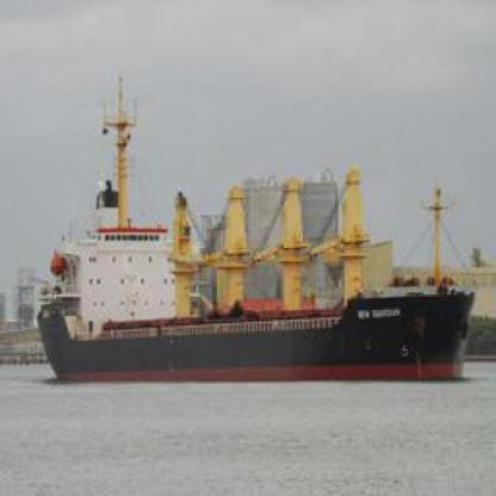Ship: (32, 254, 482, 384)
